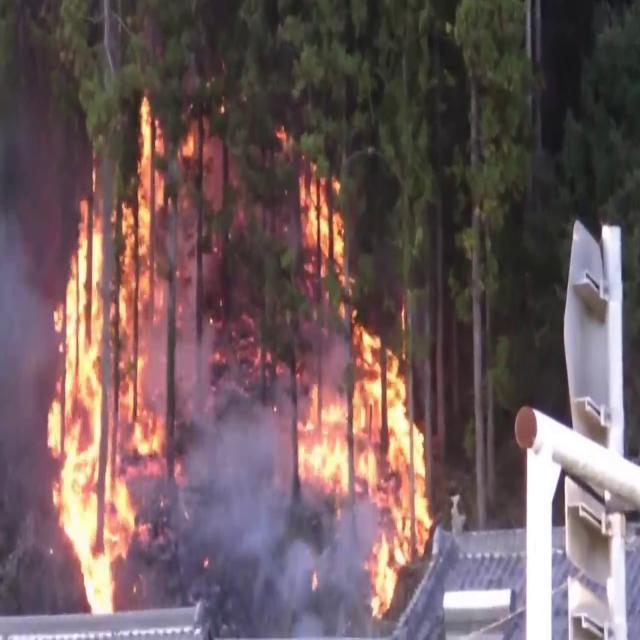Fire: (39, 105, 181, 614), (282, 183, 436, 615)
Smoke: (170, 392, 334, 634)
